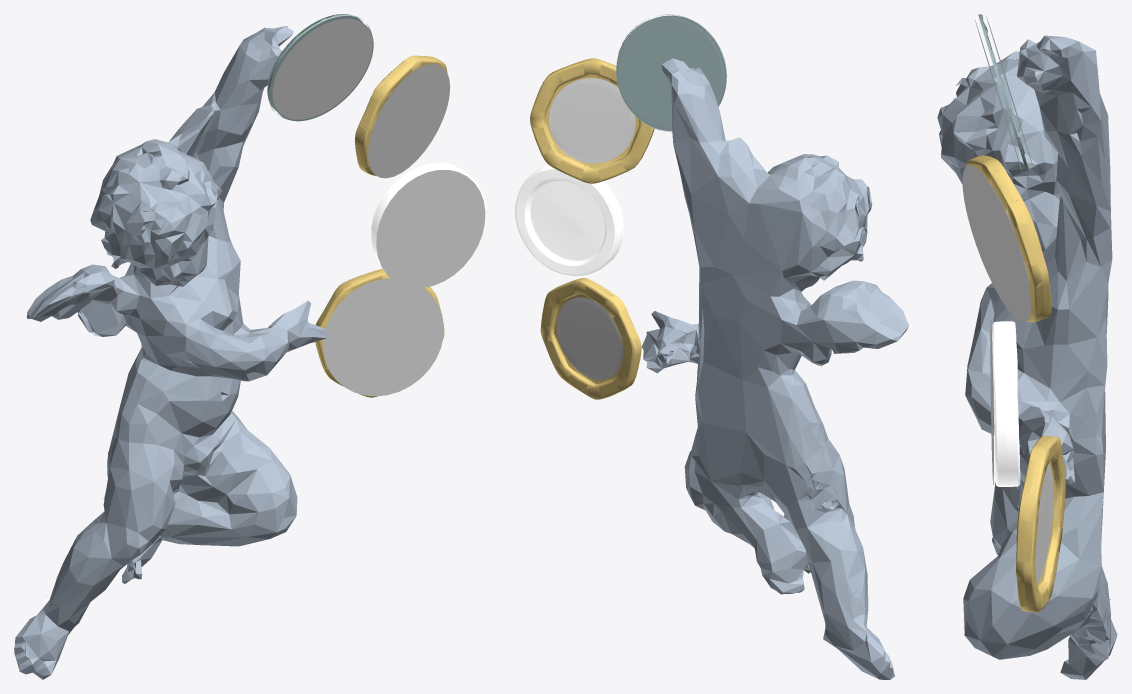
The model's file is angelOfCurrencies.glb.
3 views of the same model, side by side, from view 1: azimuth 30°, elevation 25°; view 2: azimuth 150°, elevation 25°; view 3: azimuth 270°, elevation 25° (orthographic). The views are drawn at different scales.
Parts seen in each view (by area): view 1: Angel, CoinFace4, CoinFace3, CoinFace1, CoinFace2, Angel.001, Angel.002, Object_4.001, C_metal_HP_100Cent.001_ethereum_0; view 2: Angel, Angel.001, Angel.002, Object_4.001, C_metal_HP_100Cent.001_ethereum_0; view 3: Angel, Angel.002, CoinFace2, Object_4.001, Angel.001, C_metal_HP_100Cent.001_ethereum_0, CoinFace3.
Boxes of the visible parts, x1=… form: Angel: x1=14, y1=26, x2=326, y2=679; CoinFace4: x1=323, y1=278, x2=443, y2=396; CoinFace3: x1=376, y1=170, x2=485, y2=287; CoinFace1: x1=272, y1=18, x2=372, y2=119; CoinFace2: x1=368, y1=64, x2=450, y2=178; Angel.001: x1=354, y1=55, x2=447, y2=175; Angel.002: x1=315, y1=268, x2=444, y2=397; Object_4.001: x1=371, y1=162, x2=486, y2=264; C_metal_HP_100Cent.001_ethereum_0: x1=267, y1=14, x2=373, y2=121; Angel: x1=641, y1=58, x2=908, y2=679; Angel.001: x1=530, y1=58, x2=654, y2=183; Angel.002: x1=540, y1=278, x2=641, y2=399; Object_4.001: x1=515, y1=164, x2=623, y2=276; C_metal_HP_100Cent.001_ethereum_0: x1=616, y1=14, x2=726, y2=132; Angel: x1=937, y1=35, x2=1117, y2=679; Angel.002: x1=1016, y1=435, x2=1065, y2=612; CoinFace2: x1=962, y1=165, x2=1030, y2=322; Object_4.001: x1=992, y1=321, x2=1020, y2=486; Angel.001: x1=966, y1=155, x2=1051, y2=322; C_metal_HP_100Cent.001_ethereum_0: x1=975, y1=14, x2=1033, y2=174; CoinFace3: x1=990, y1=320, x2=993, y2=484.
Bounding box in the file's own units: 0.5693 × 0.7818 × 0.1558.
